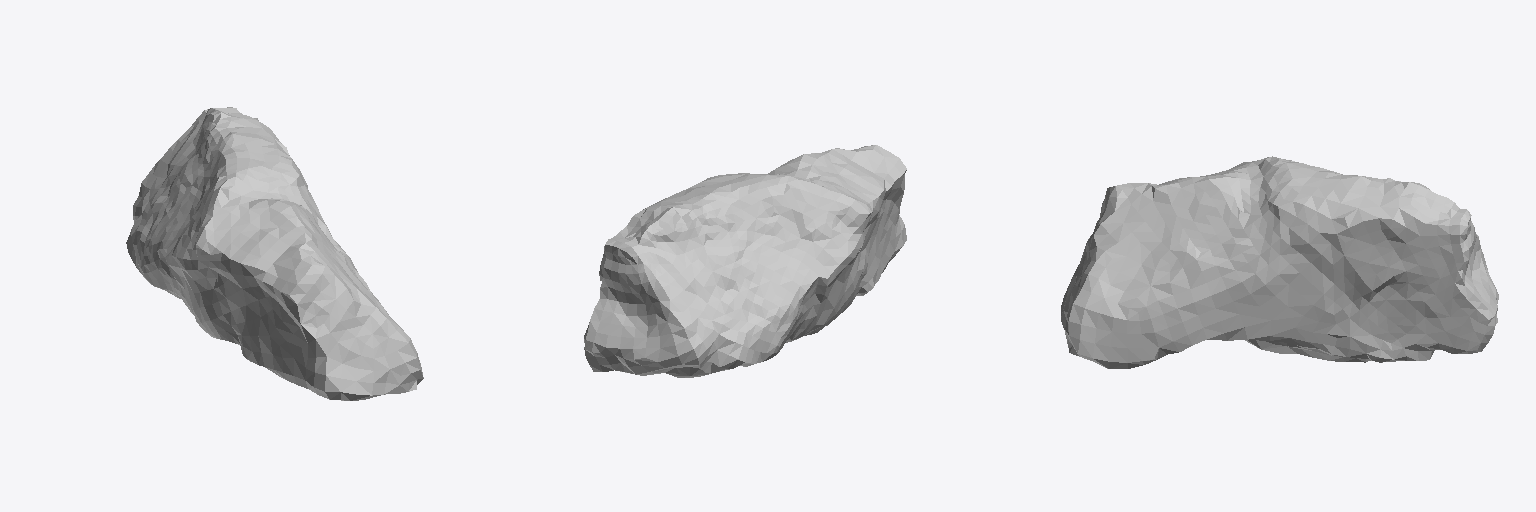
The model's file is stone.obj.
3 views of the same model, side by side, from view 1: azimuth 30°, elevation 25°; view 2: azimuth 150°, elevation 25°; view 3: azimuth 270°, elevation 25° (orthographic).
Parts seen in each view (by area): view 1: Stone_01_Base:polySurface1 group; view 2: Stone_01_Base:polySurface1 group; view 3: Stone_01_Base:polySurface1 group.
Boxes of the visible parts, <box> form: Stone_01_Base:polySurface1 group: <box>126,107,423,400</box>; Stone_01_Base:polySurface1 group: <box>584,145,906,377</box>; Stone_01_Base:polySurface1 group: <box>1061,156,1498,368</box>.
Size of the model in its own units: 2.42 by 2.54 by 5.7.